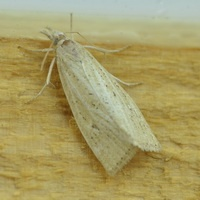insect: (41, 27, 160, 175)
